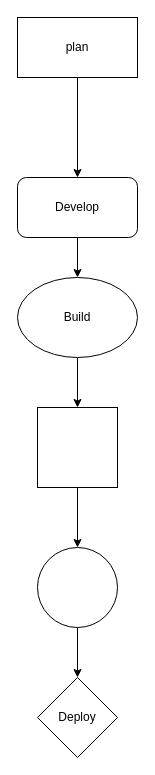
Some shapes in this 155 by 775 pixel diagram are drawn without their labels. Each missing label, with the box of its shape:
Release: (36, 546, 118, 628)
Text: (36, 406, 118, 488)
